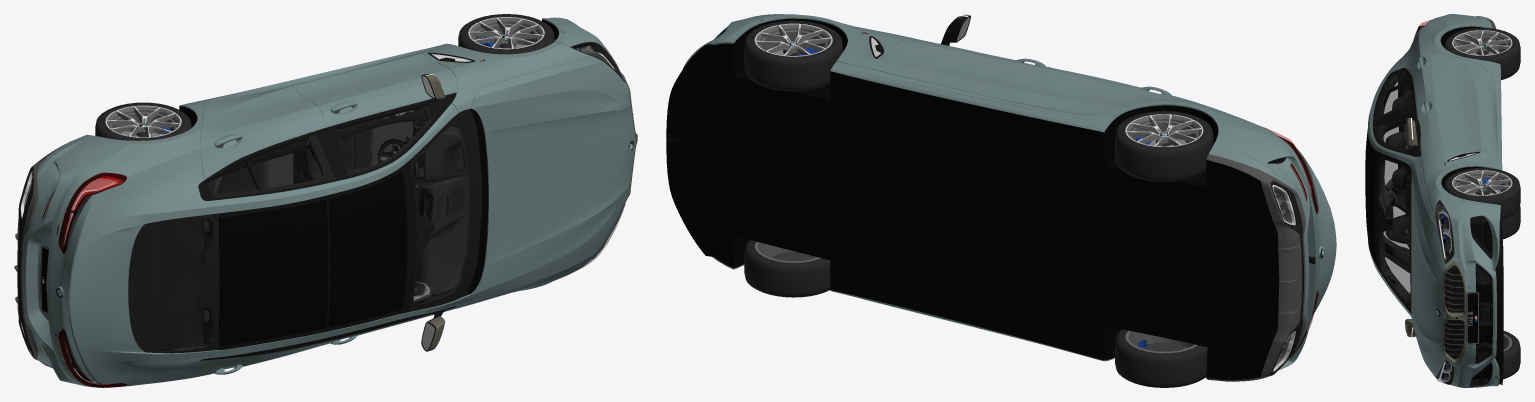
3 renders of one model, left to right at view 1: azimuth 30°, elevation 25°; view 2: azimuth 150°, elevation 25°; view 3: azimuth 270°, elevation 25°, orthographic. The views are drawn at different scales.
Parts seen in each view (by area): view 1: body_mesh, wheel_FL_mesh, wheel_RL_mesh; view 2: body_mesh, wheel_RL_mesh, wheel_FL_mesh, wheel_RR_mesh, wheel_FR_mesh; view 3: body_mesh, wheel_FL_mesh, wheel_RL_mesh, wheel_FR_mesh, wheel_RR_mesh.
Part boxes in pixels (x1,y1,x2,y2): body_mesh: [14, 17, 637, 387]; wheel_FL_mesh: [458, 14, 554, 54]; wheel_RL_mesh: [95, 102, 191, 140]; body_mesh: [666, 14, 1336, 381]; wheel_RL_mesh: [1115, 111, 1213, 181]; wheel_FL_mesh: [744, 20, 842, 91]; wheel_RR_mesh: [1115, 329, 1207, 387]; wheel_FR_mesh: [744, 240, 830, 297]; body_mesh: [1365, 14, 1503, 387]; wheel_FL_mesh: [1444, 168, 1520, 219]; wheel_RL_mesh: [1444, 28, 1520, 80]; wheel_FR_mesh: [1503, 331, 1520, 379]; wheel_RR_mesh: [1502, 206, 1520, 239].
Bounding box in the file's own units: 5.08 × 2.2 × 1.42.
Materials: 35 (10 with a texture image).
